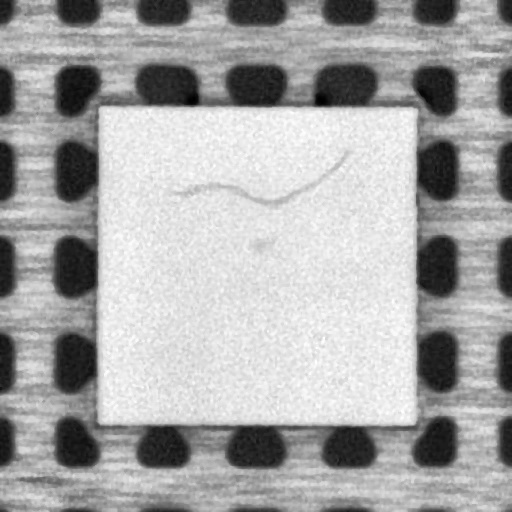DIE_CRACK: (173, 148, 355, 202)
